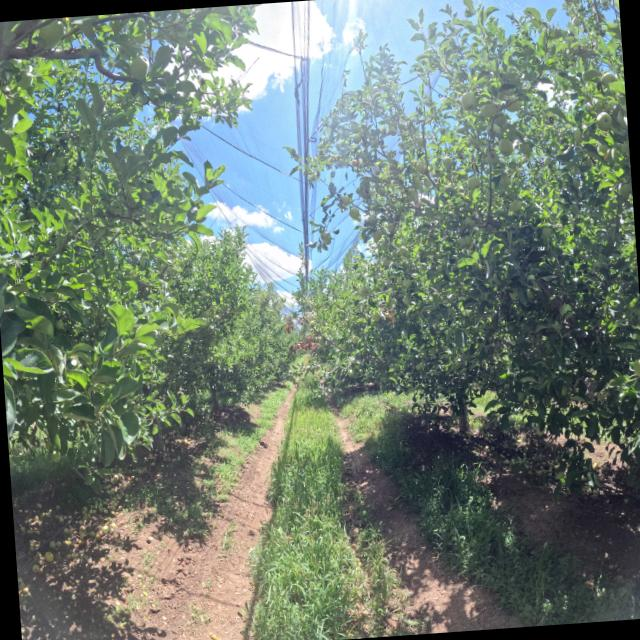-FireBlight-: (288, 335, 318, 354), (282, 318, 296, 334), (298, 315, 309, 324)
